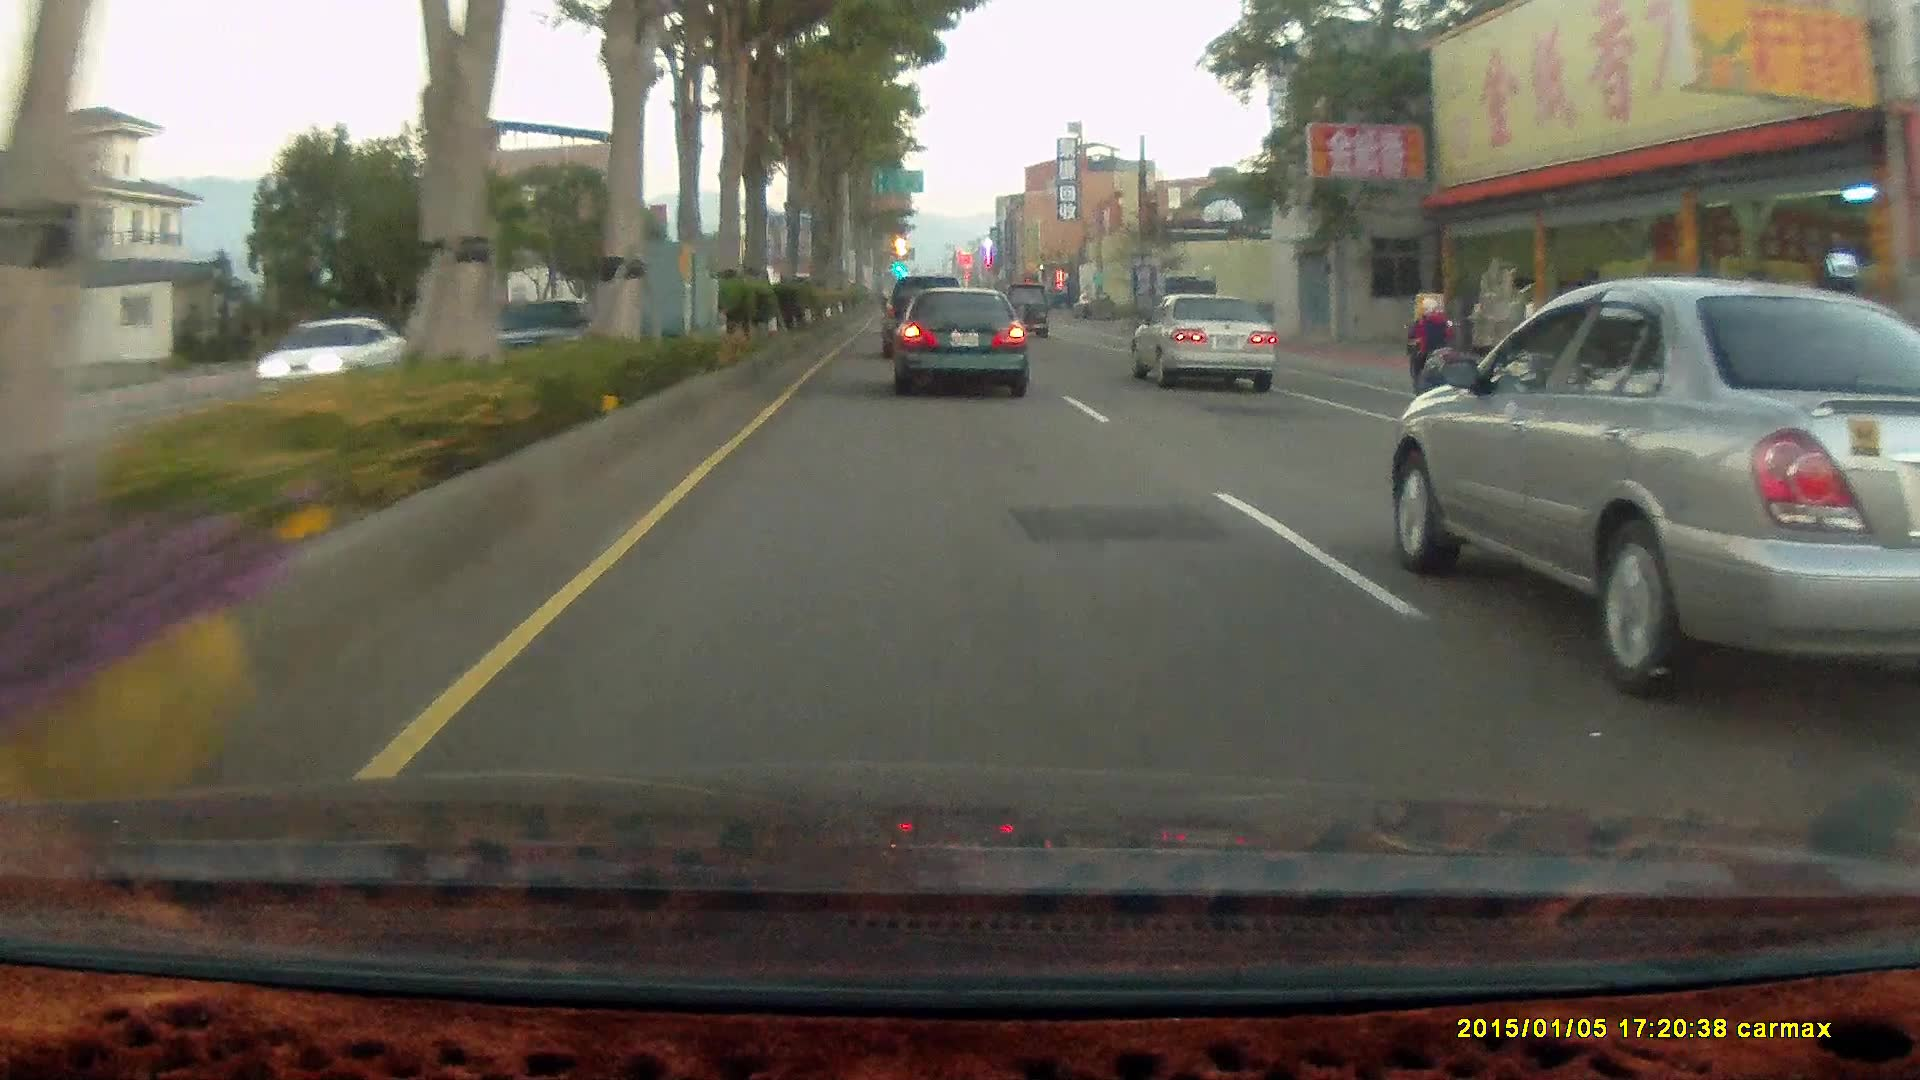rider: (1392, 290, 1474, 410), (1399, 294, 1461, 404)
vehicle: (1381, 289, 1920, 704), (891, 287, 1033, 403), (887, 285, 1027, 397), (1135, 294, 1286, 398), (1128, 292, 1275, 391), (250, 317, 409, 401), (251, 321, 415, 394), (488, 299, 617, 361), (883, 275, 973, 361), (881, 281, 963, 361), (1150, 278, 1217, 341), (1001, 280, 1049, 338)
